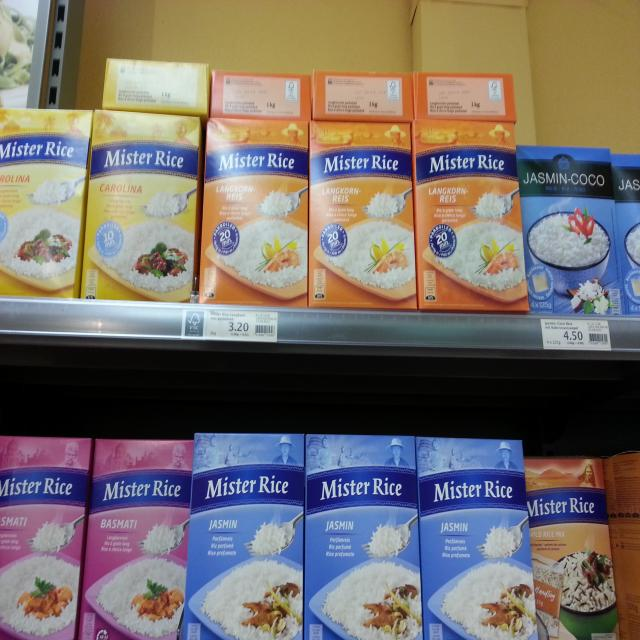Rice: (300, 431, 425, 640), (412, 435, 539, 640), (182, 434, 304, 640), (412, 118, 531, 310), (82, 110, 202, 300), (80, 439, 192, 640), (306, 118, 419, 310), (200, 115, 308, 309), (513, 143, 625, 315), (0, 436, 92, 640), (523, 459, 621, 640), (0, 106, 91, 297)
